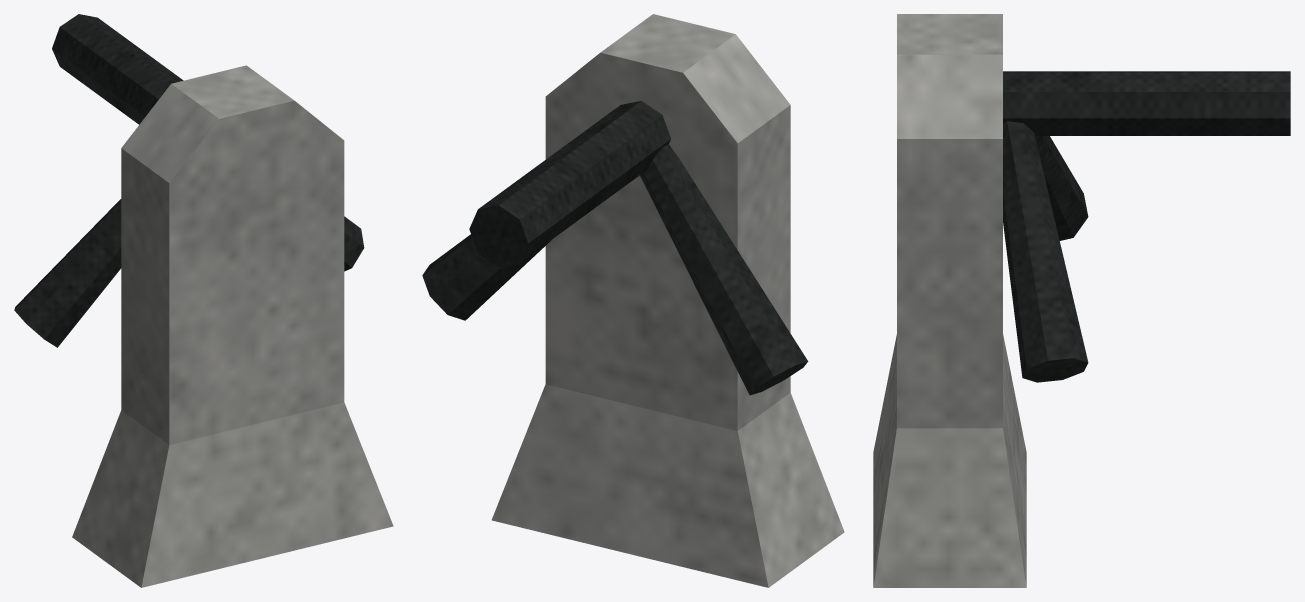
The model's file is Caseta 1.fbx.
3 renders of one model, left to right at view 1: azimuth 30°, elevation 25°; view 2: azimuth 150°, elevation 25°; view 3: azimuth 270°, elevation 25°, orthographic. The views are drawn at different scales.
Parts seen in each view (by area): view 1: Turnstile, Cylinder, Cylinder.002, Cylinder.001; view 2: Turnstile, Cylinder, Cylinder.002, Cylinder.001; view 3: Turnstile, Cylinder, Cylinder.001, Cylinder.002.
Boxes of the visible parts, box(x1,y1,x2,y2) form: Turnstile: box(72, 65, 393, 587); Cylinder: box(52, 14, 183, 124); Cylinder.002: box(14, 199, 121, 347); Cylinder.001: box(344, 216, 364, 271); Turnstile: box(491, 14, 844, 587); Cylinder: box(469, 101, 670, 266); Cylinder.002: box(640, 144, 808, 395); Cylinder.001: box(422, 234, 551, 320); Turnstile: box(873, 14, 1026, 587); Cylinder: box(1003, 71, 1290, 135); Cylinder.001: box(1003, 121, 1088, 382); Cylinder.002: box(1035, 136, 1088, 240).
Size of the model in its own units: 233 by 287 by 223.
Materials: 2 (2 with a texture image).
